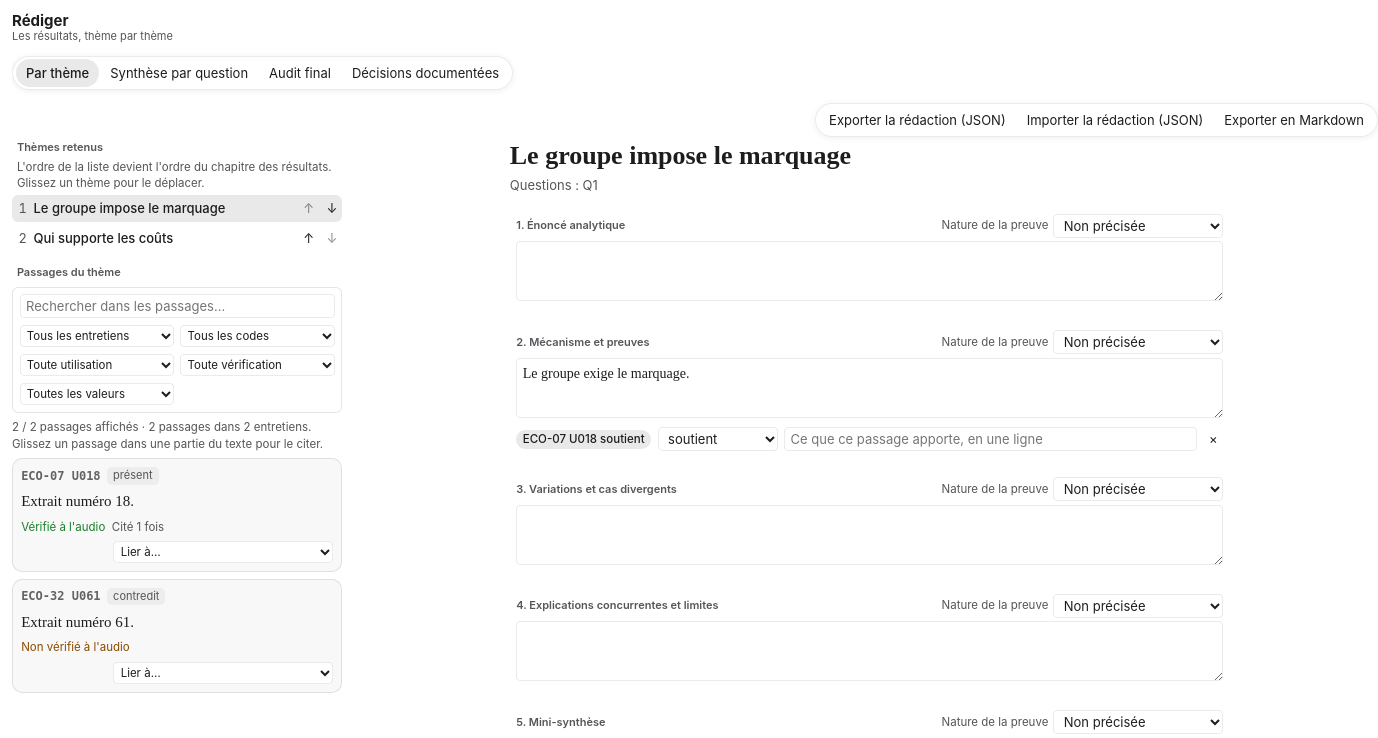
Scenario: Rédiger, par thème › filters passages by citation use and the writing part, while keeping keyboard linking available
expect the text "Extrait numéro 61." is shown: met, box [21,614,134,630]
Select "Déjà cités" in the dropdown named "Filtrer par utilisation": (97, 365) [20,354,174,376]
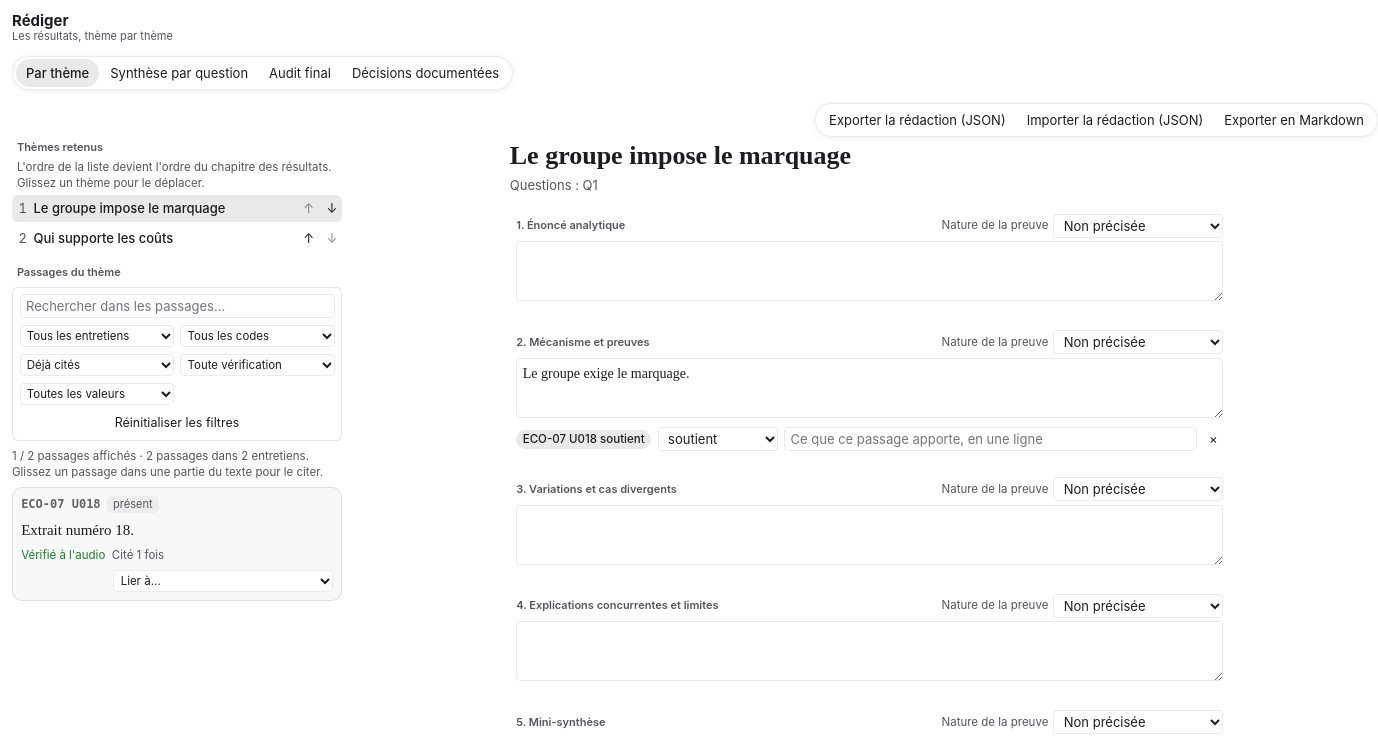
expect the text "Extrait numéro 18." is shown: met, box [21,522,134,538]
expect the text "Extrait numéro 61." is gone: met
Select "Mécanisme et preuves" in the dropdown named "Filtrer par utilisation": (97, 365) [20,354,174,376]
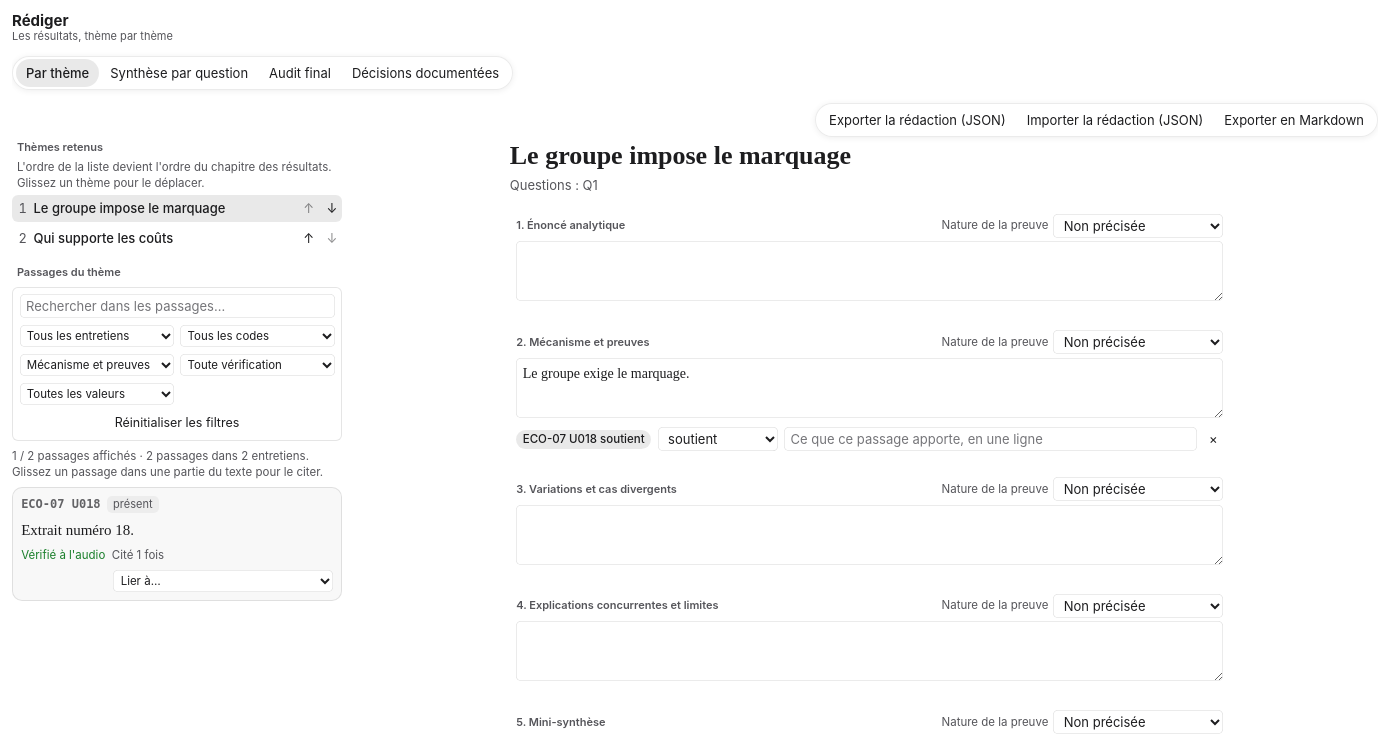
expect the dropdown named "Lier ECO-07 U018 à une partie" is shown: met, box [113,570,333,592]
Select "Pas encore cités" in the dropdown named "Filtrer par utilisation": (97, 365) [20,354,174,376]
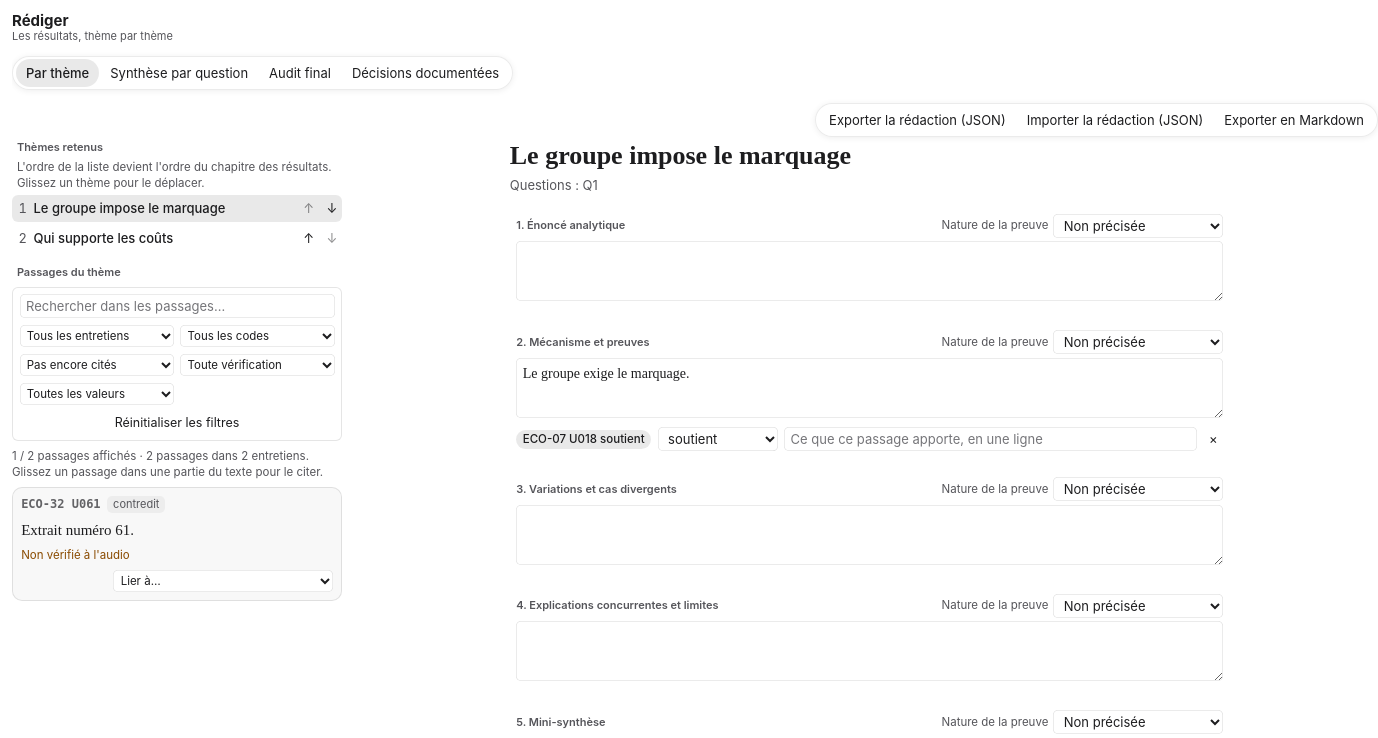
expect the text "Extrait numéro 61." is shown: met, box [21,522,134,538]
expect the text "Extrait numéro 18." is gone: met
